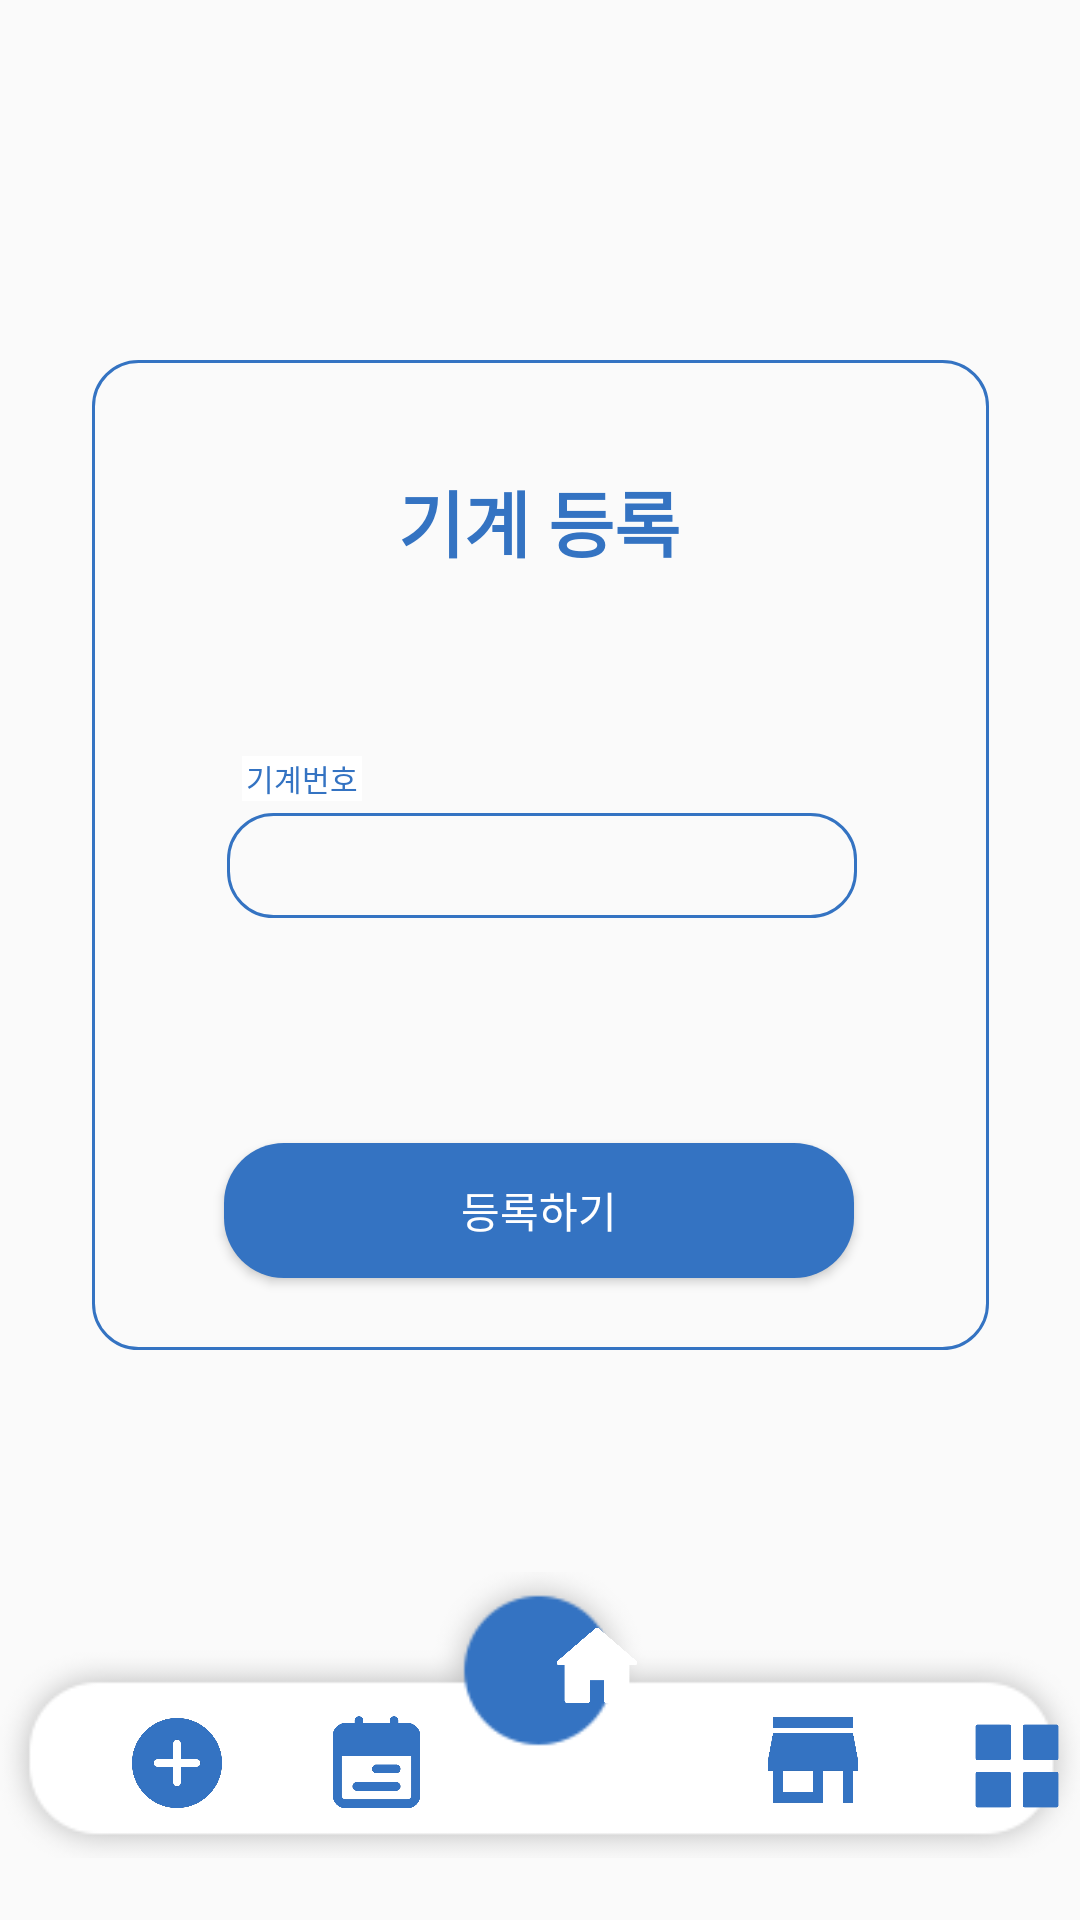

Icon click points for this 1080w x 1920h phone screenshot, format (x,y):
calendaricon: (376,1762)
homeicon: (597,1665)
menuicon: (1018,1766)
plusicon: (177,1763)
storeicon: (813,1760)
